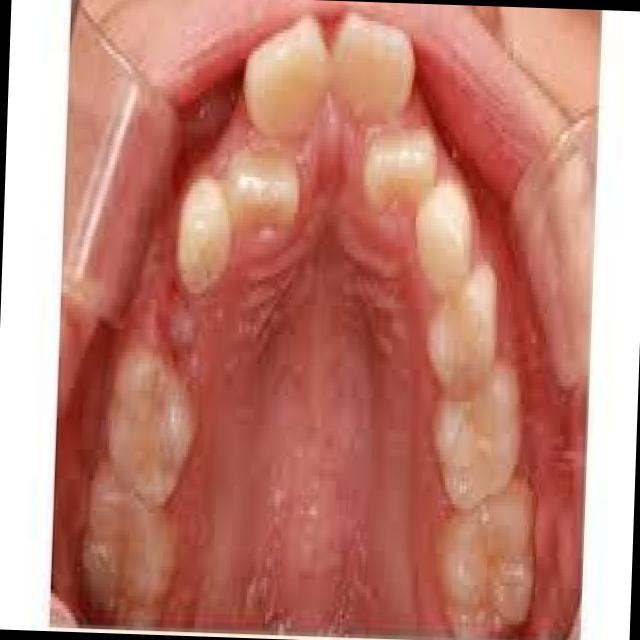Tooth: (438, 472, 536, 635), (79, 457, 175, 623), (108, 348, 201, 508), (433, 357, 521, 515), (243, 11, 333, 136), (426, 250, 498, 394), (333, 9, 415, 120), (363, 124, 439, 212), (415, 179, 473, 294), (177, 175, 232, 289), (225, 146, 299, 230)
